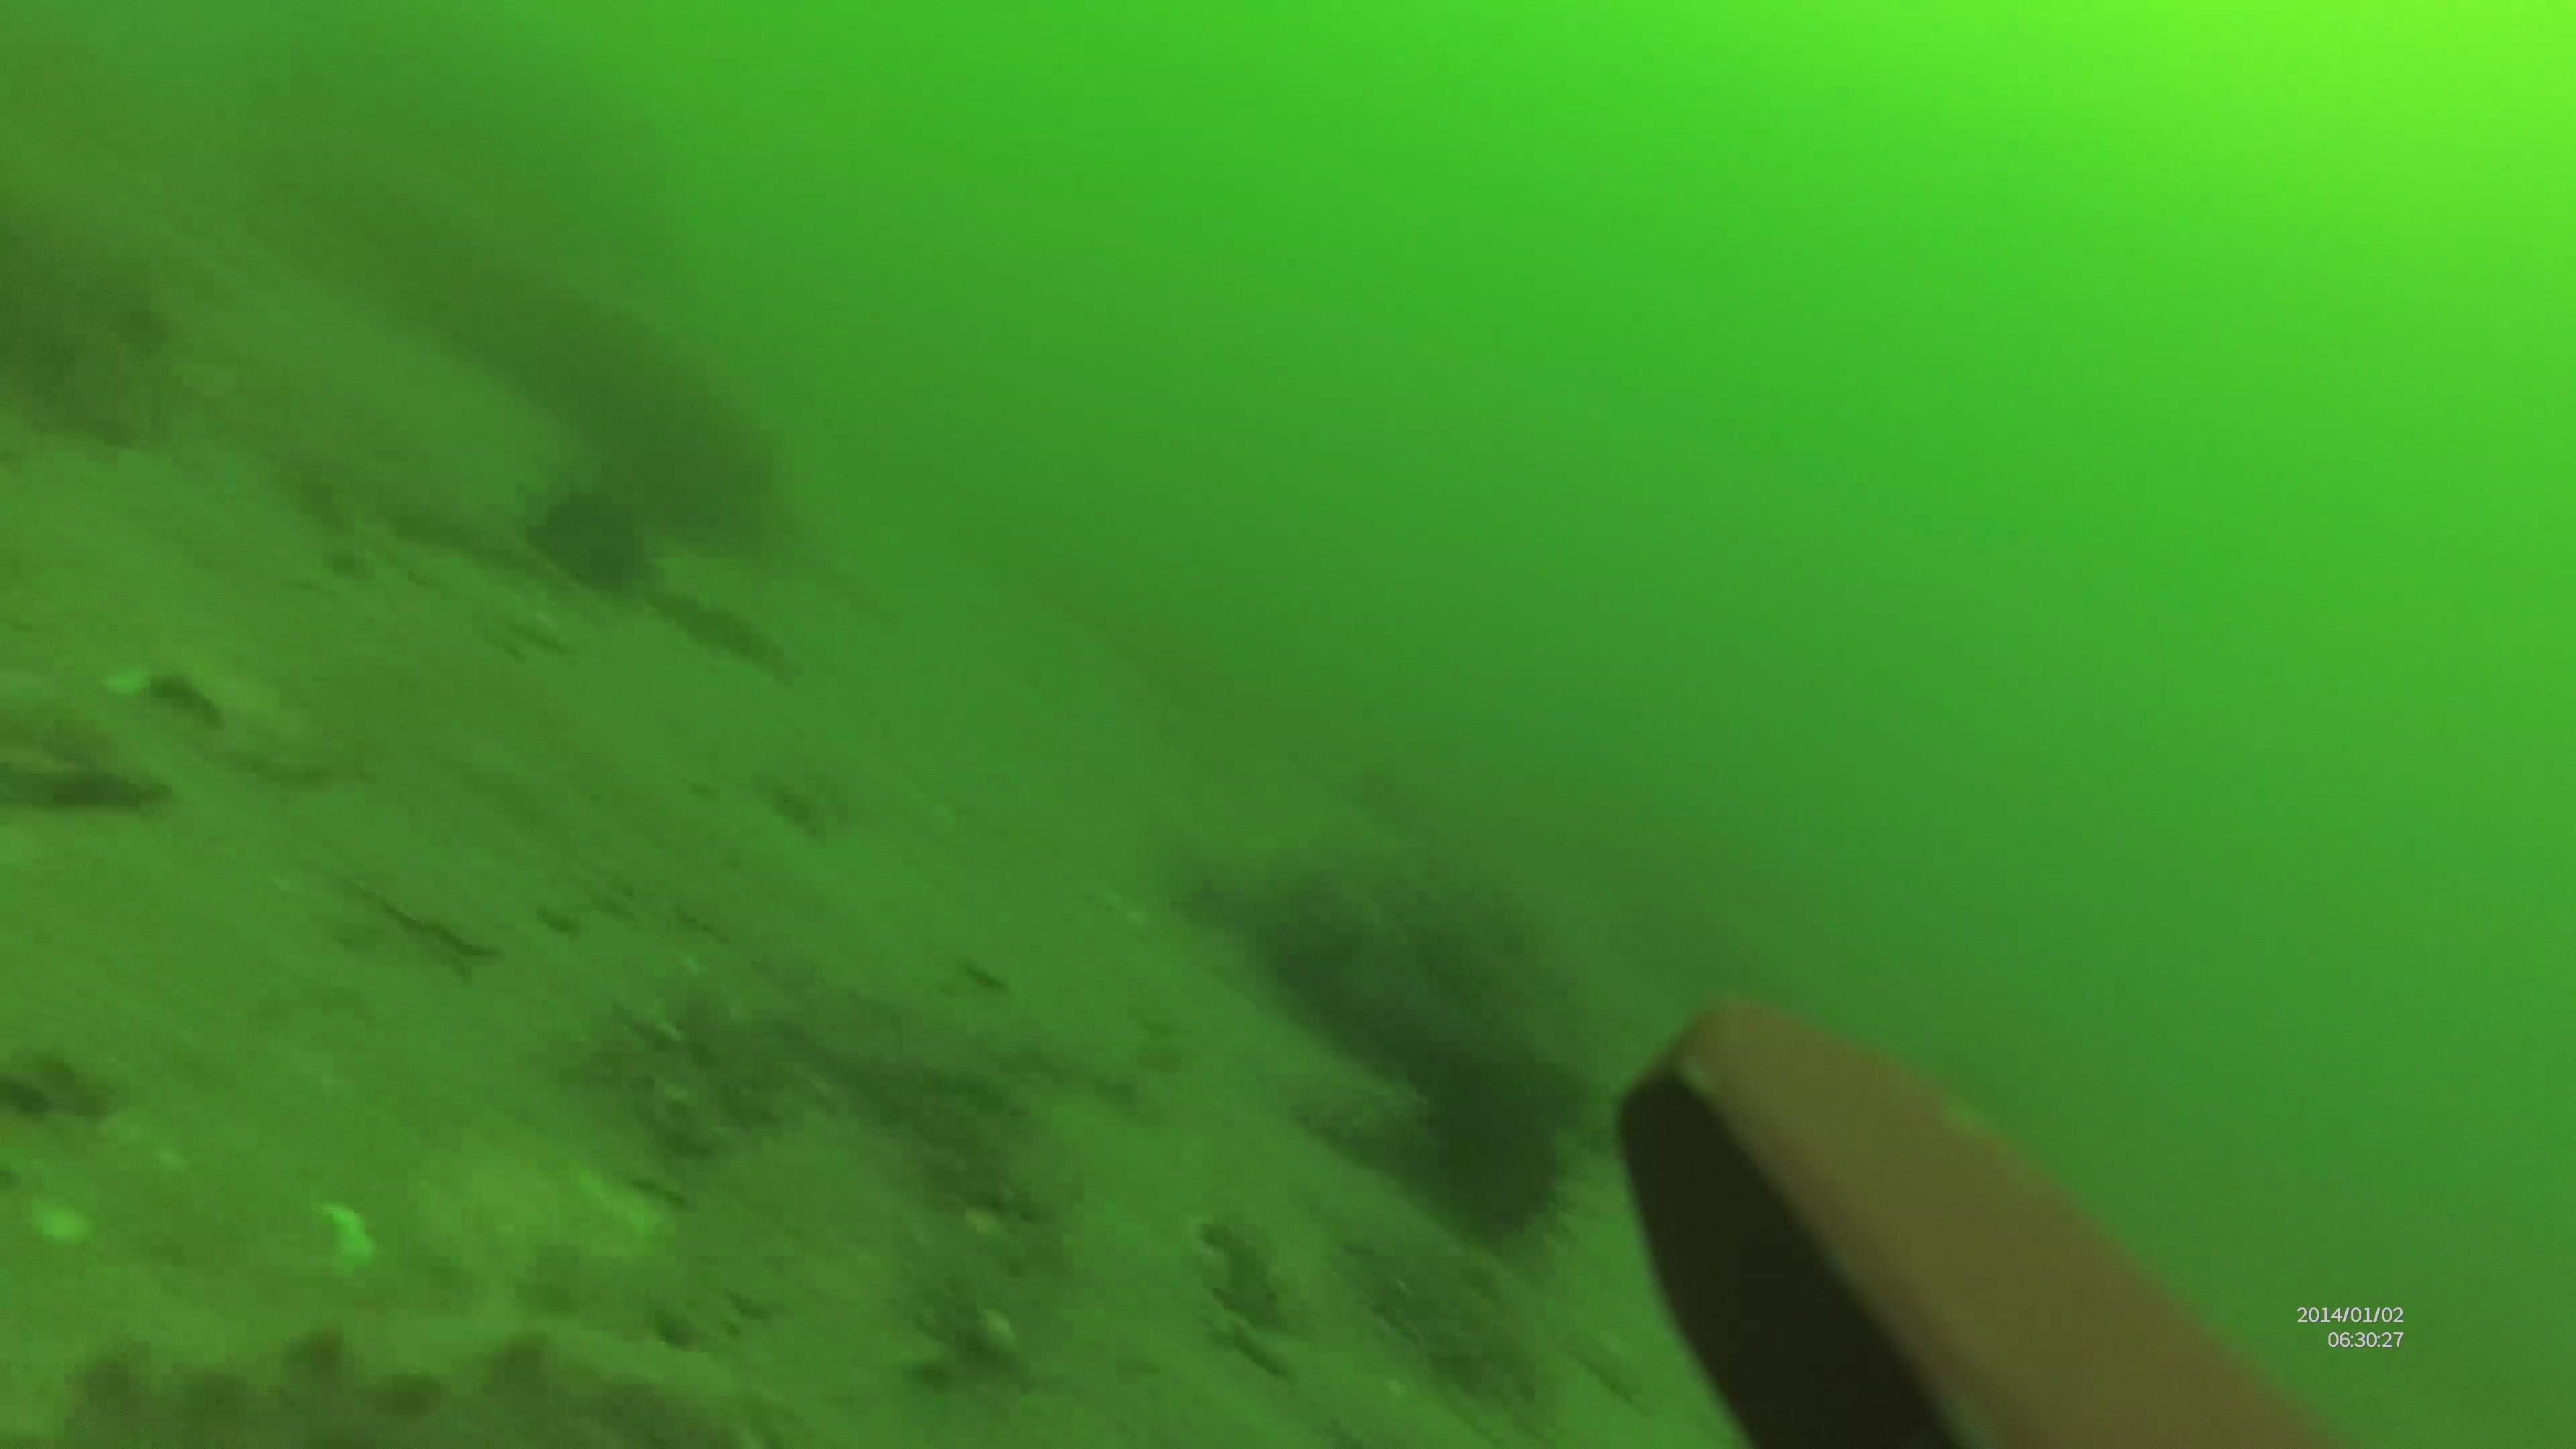echinus: (1437, 1102, 1553, 1226), (1410, 1044, 1564, 1129), (536, 490, 648, 586)
holothurian: (32, 1320, 713, 1449)
